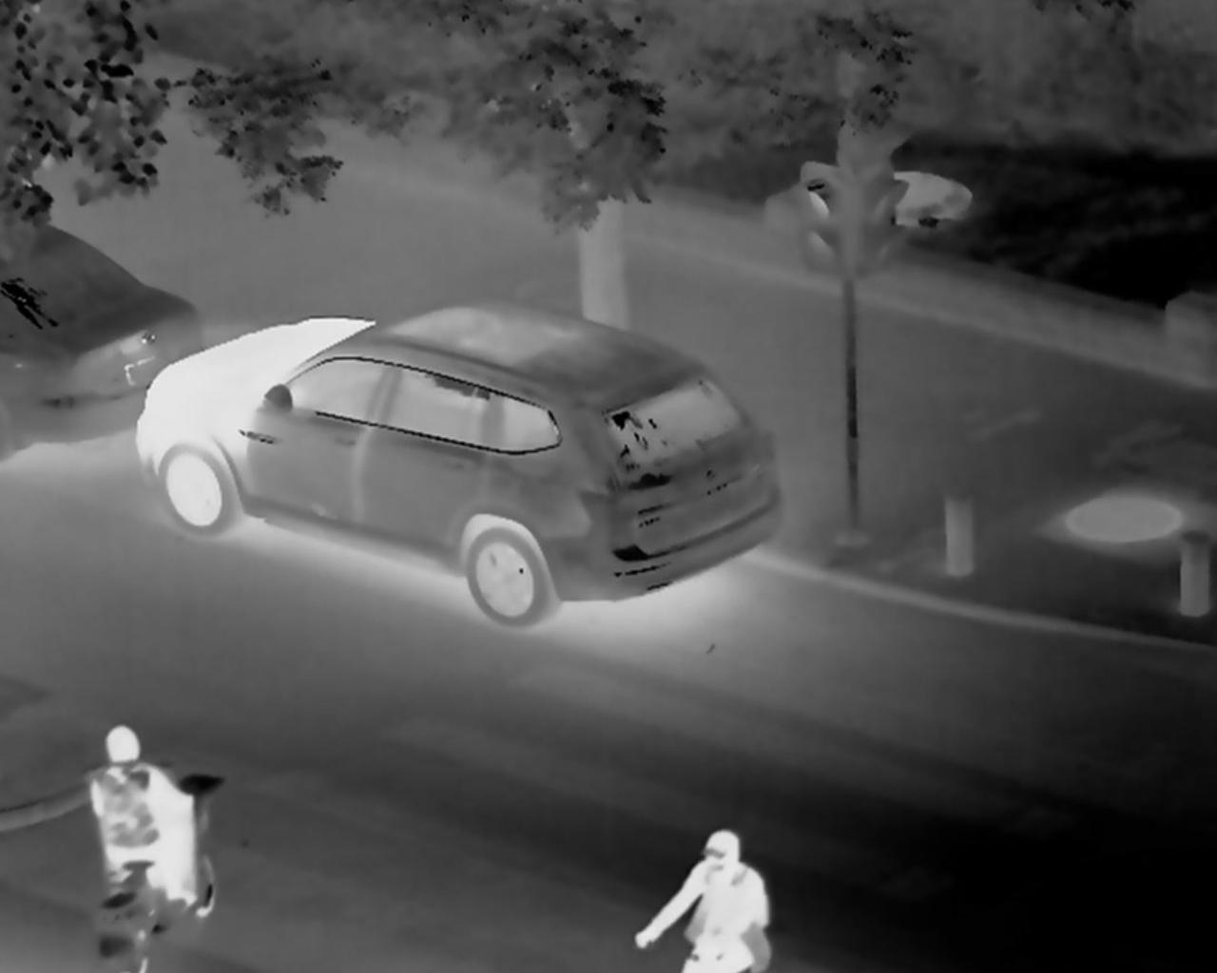person: (88, 716, 212, 889), (653, 803, 774, 973)
